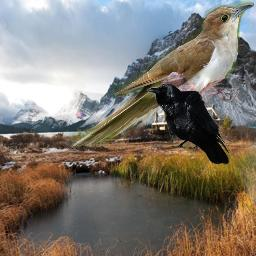Crow: (147, 83, 231, 165)
Cuckoo: (70, 1, 254, 147)
